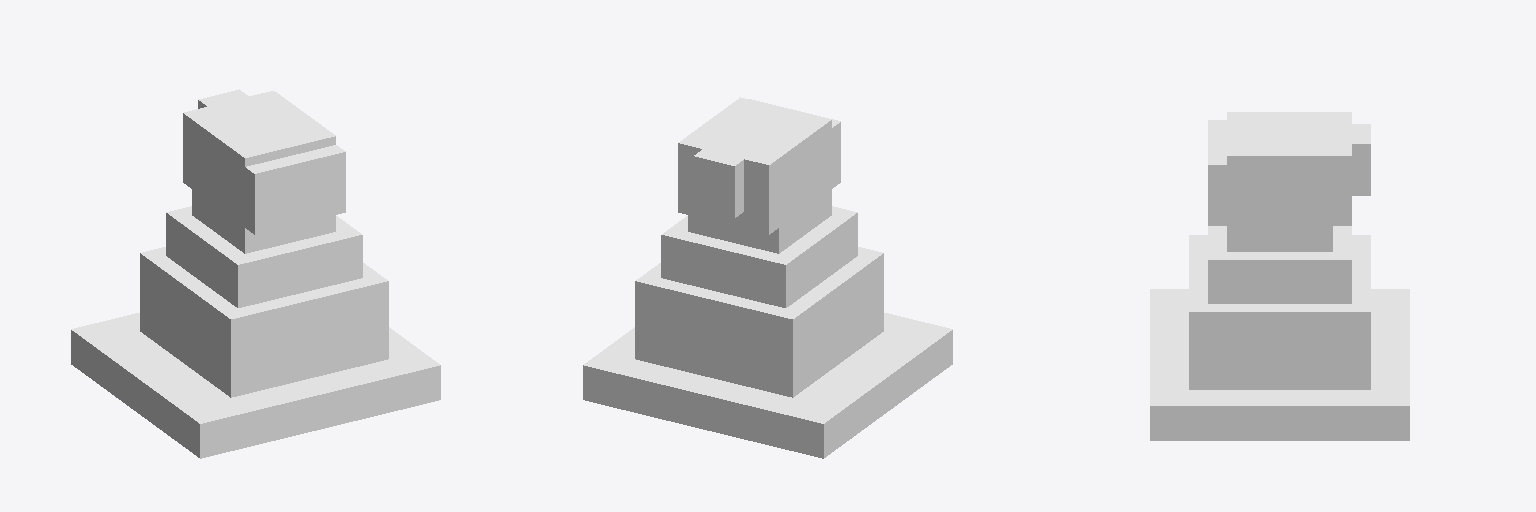
Rendered from RapidTower0_Bottom.obj.
The picture shows the model from 3 angles: view 1: azimuth 30°, elevation 25°; view 2: azimuth 150°, elevation 25°; view 3: azimuth 270°, elevation 25°; orthographic projection.
Parts seen in each view (by area): view 1: RapidTower0_Bottom; view 2: RapidTower0_Bottom; view 3: RapidTower0_Bottom.
Part boxes in pixels (x1,y1,x2,y2): RapidTower0_Bottom: (71,89,440,458); RapidTower0_Bottom: (583,97,952,458); RapidTower0_Bottom: (1150,112,1409,440).
Bounding box in the file's own units: 29 × 29 × 27.